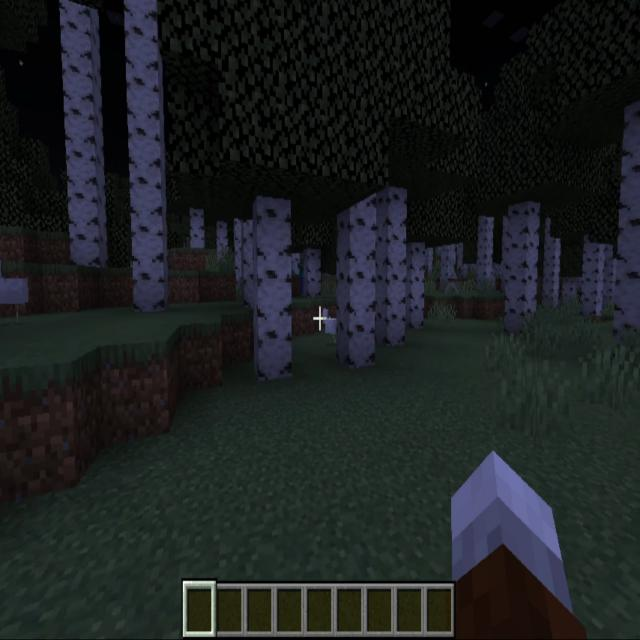Chicken: (0, 259, 31, 322), (321, 307, 338, 343)
Skeleton: (439, 248, 461, 298)
Zombie: (298, 254, 308, 298)
